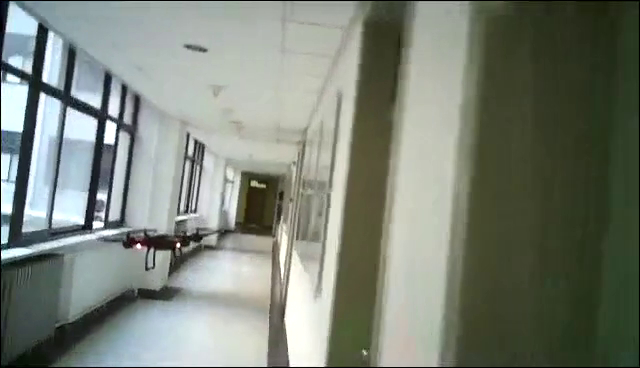drone: (97, 227, 223, 272)
